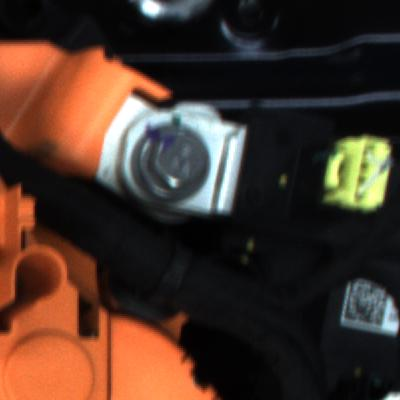nut_b: (128, 110, 217, 204)
